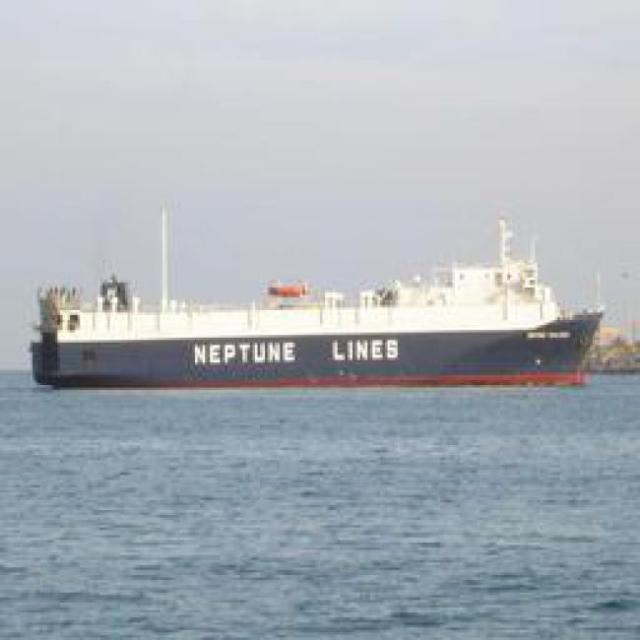boat: (19, 271, 608, 392)
